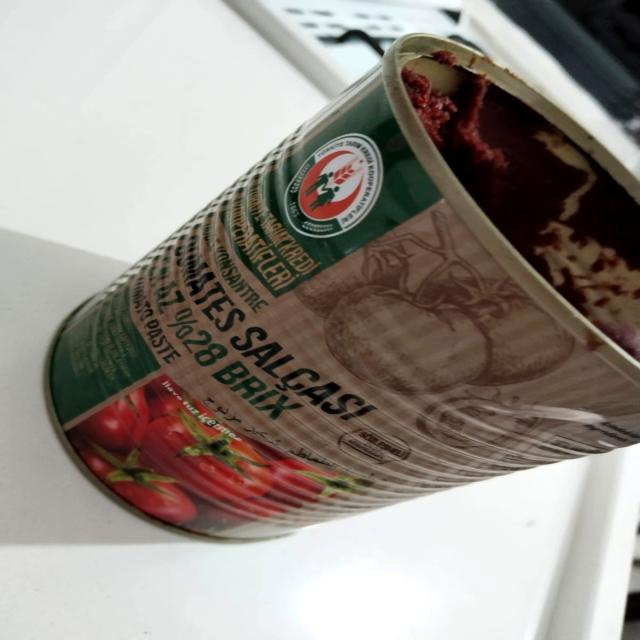tomato paste: (82, 37, 640, 554)
